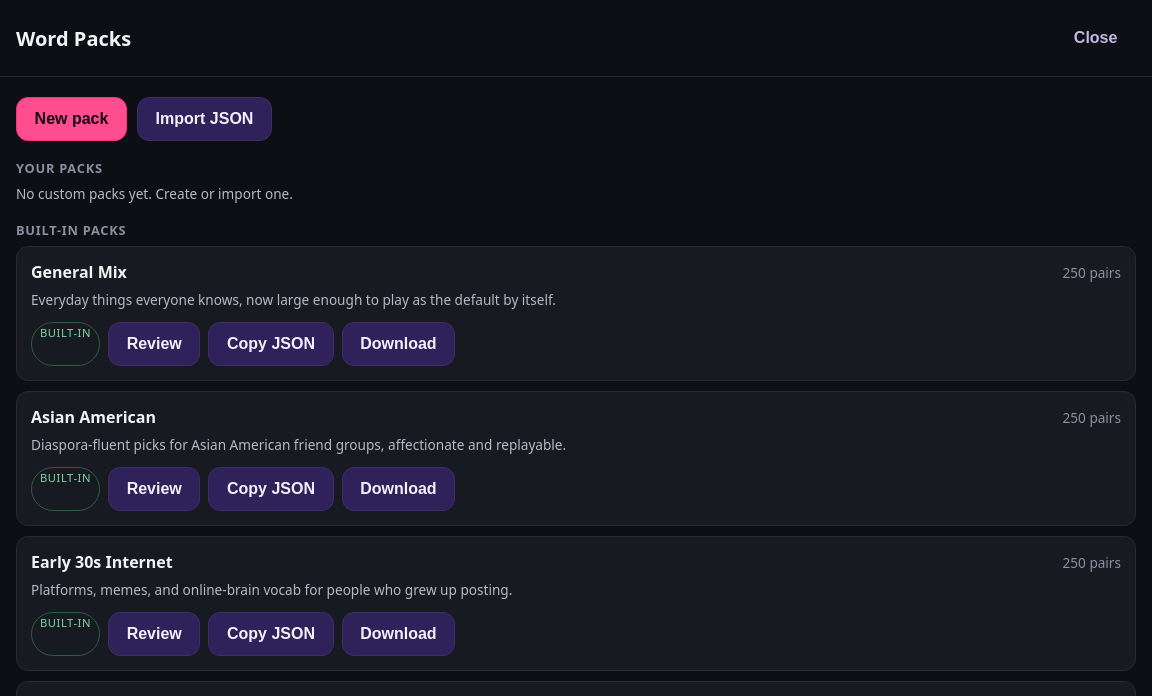
Test case: PackEditor create › creates a pack from inline pairs
Click the button "New pack" at (72, 119), box [16,97,127,141]
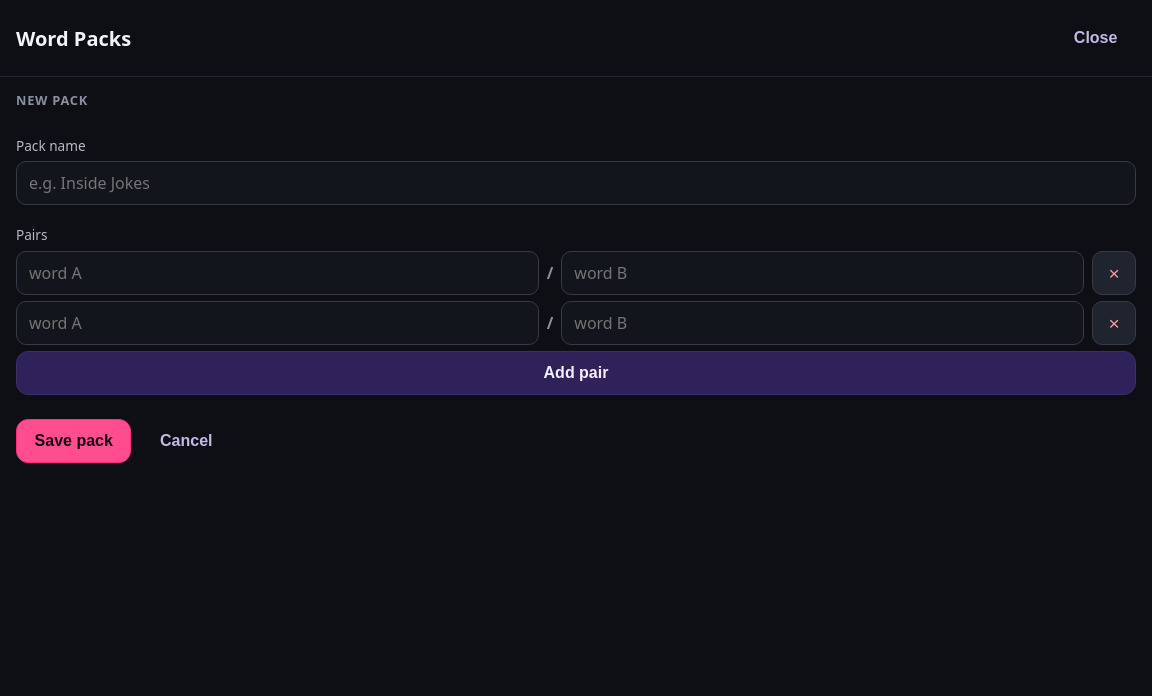
Type "Inside Jokes" into the field labelled "Pack name" at (576, 183), box [16,161,1136,205]
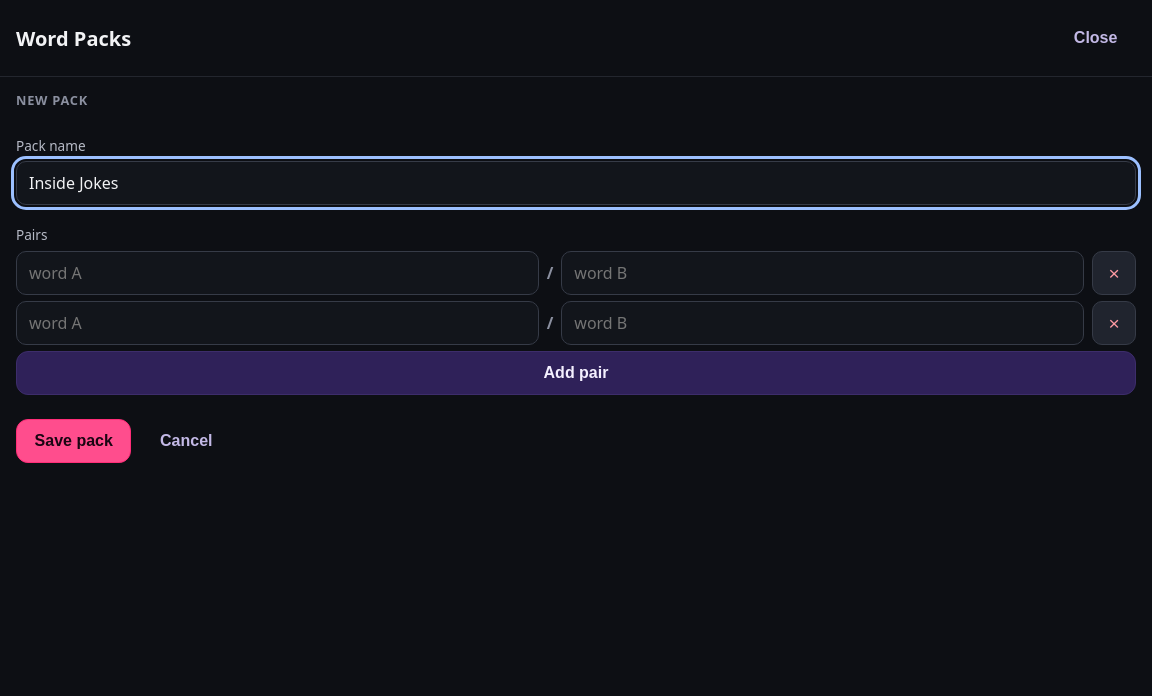
Type "cat" into the field named "Pair 1 word A" at (277, 273), box [16,251,539,295]
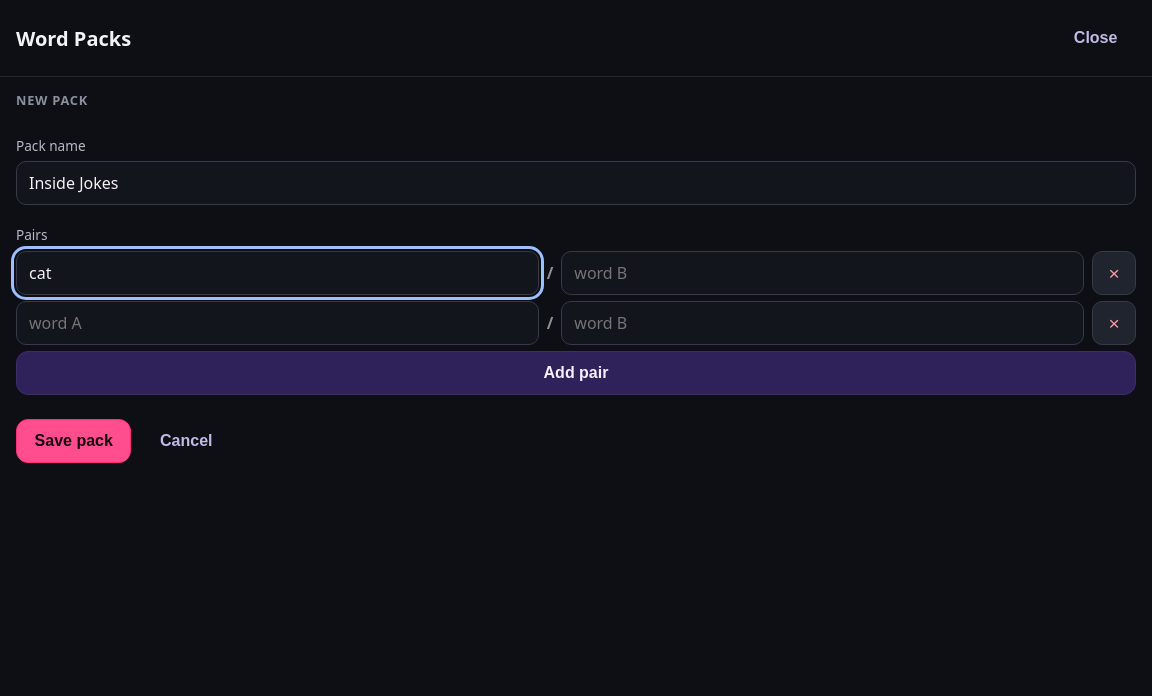
Type "dog" into the field named "Pair 1 word B" at (823, 273), box [561,251,1084,295]
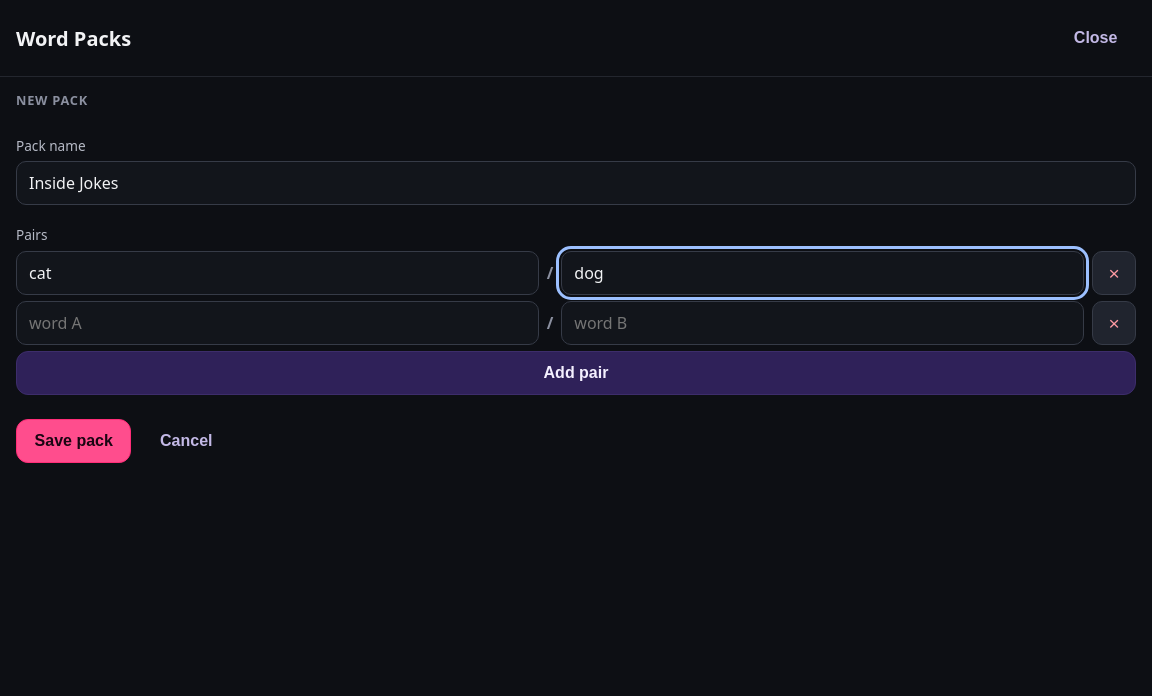
Click the button "Save pack" at (74, 441), box [16,419,132,463]
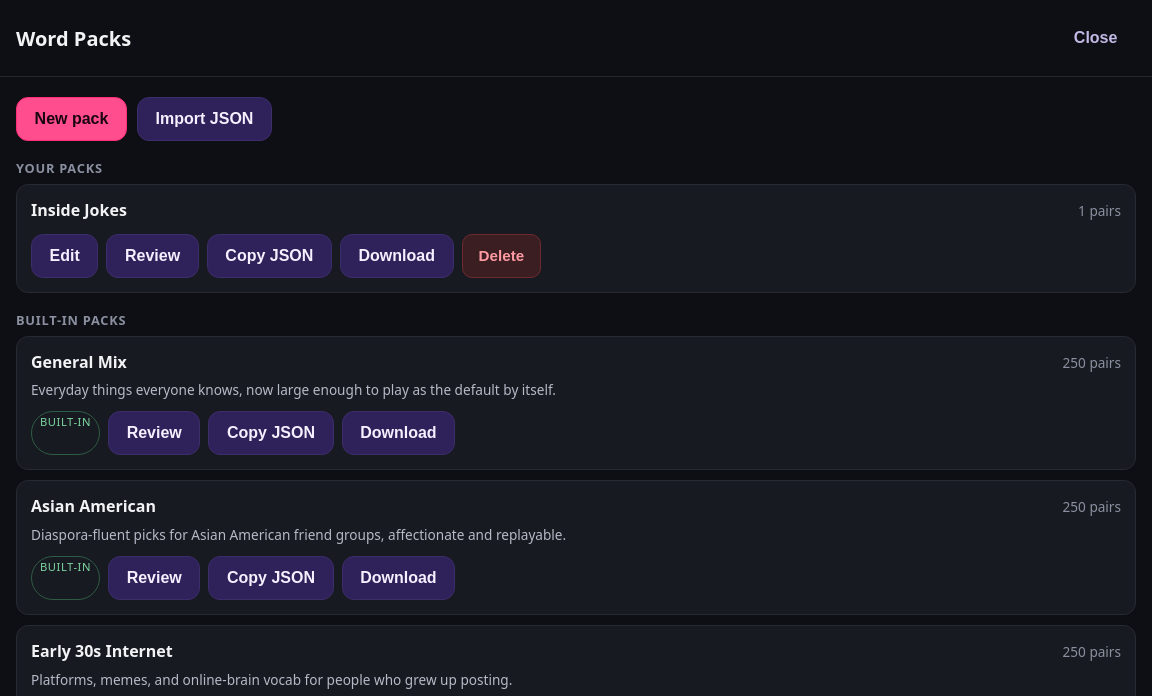
Now the text "Inside Jokes" is shown, box [31,199,127,222]
